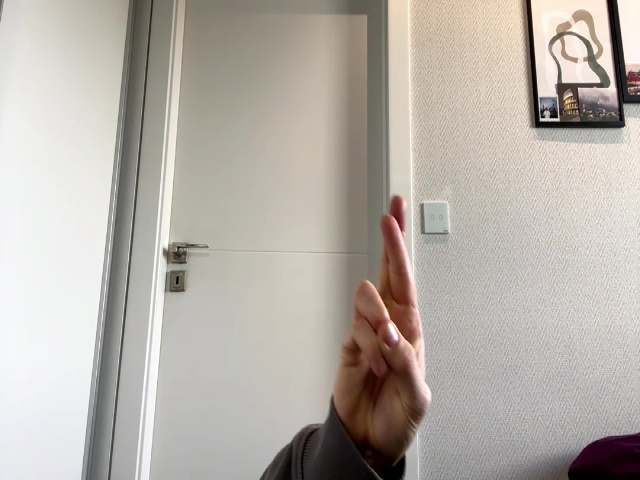R: (339, 195, 432, 442)
